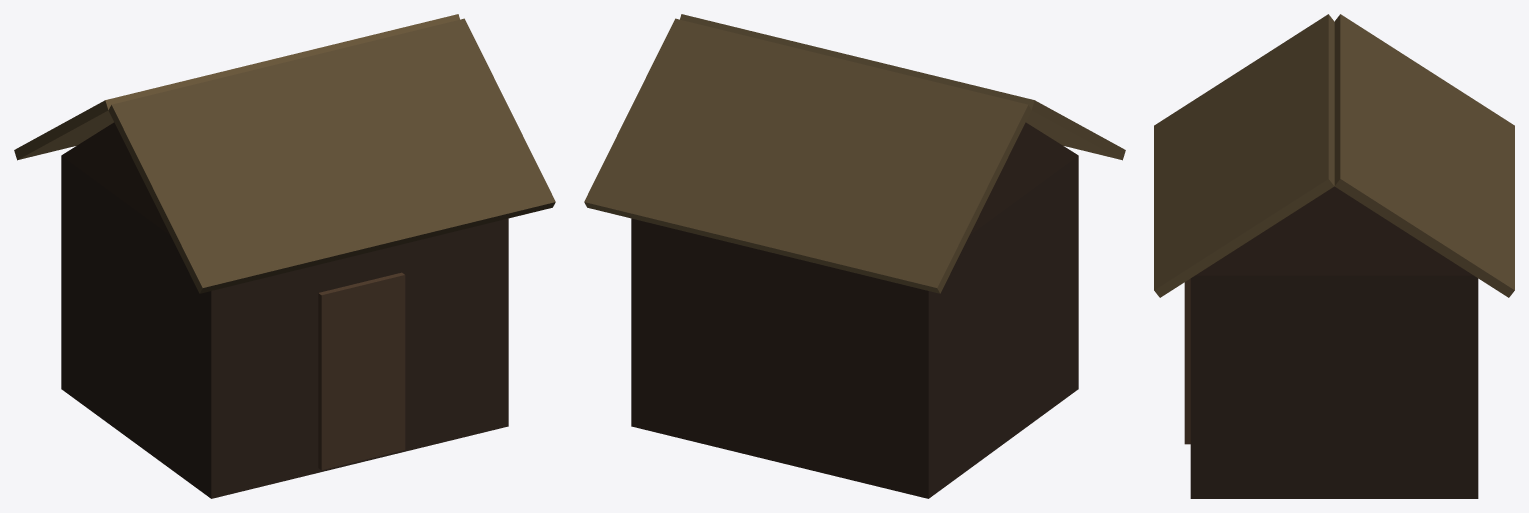
Rendered from walk_prop_smokehouse.glb.
3 views of the same model, side by side, from view 1: azimuth 30°, elevation 25°; view 2: azimuth 150°, elevation 25°; view 3: azimuth 270°, elevation 25° (orthographic). The views are drawn at different scales.
Parts seen in each view (by area): view 1: walk_prop_smokehouse, walk_prop_smokehouse_roof; view 2: walk_prop_smokehouse, walk_prop_smokehouse_roof; view 3: walk_prop_smokehouse, walk_prop_smokehouse_roof.
Boxes of the visible parts, x1=… form: walk_prop_smokehouse: x1=61, y1=122, x2=508, y2=498; walk_prop_smokehouse_roof: x1=14, y1=14, x2=555, y2=293; walk_prop_smokehouse: x1=631, y1=122, x2=1078, y2=498; walk_prop_smokehouse_roof: x1=584, y1=14, x2=1125, y2=293; walk_prop_smokehouse: x1=1184, y1=186, x2=1478, y2=498; walk_prop_smokehouse_roof: x1=1154, y1=14, x2=1514, y2=297.
Size of what is drawn, in the model's own units: 3.8 by 3.58 by 3.52.
Materials: 1 (1 with a texture image).
